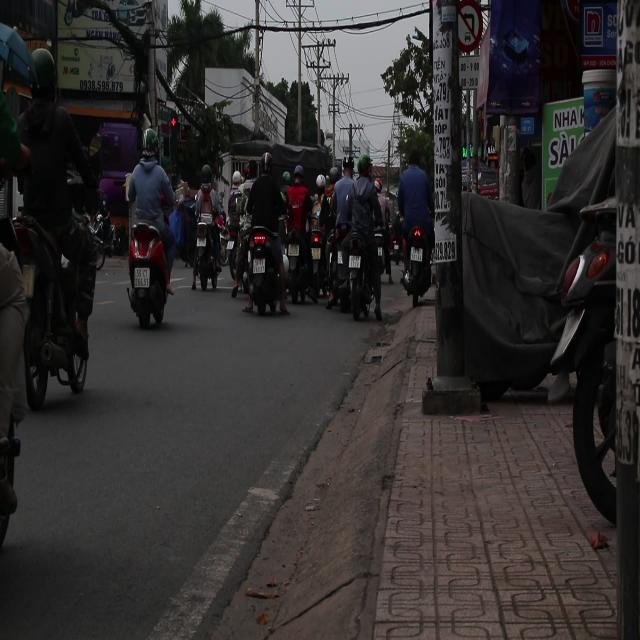motorbike: (14, 170, 94, 412), (126, 219, 174, 330), (326, 224, 381, 318), (239, 220, 287, 314), (189, 208, 223, 293), (405, 216, 429, 313)
